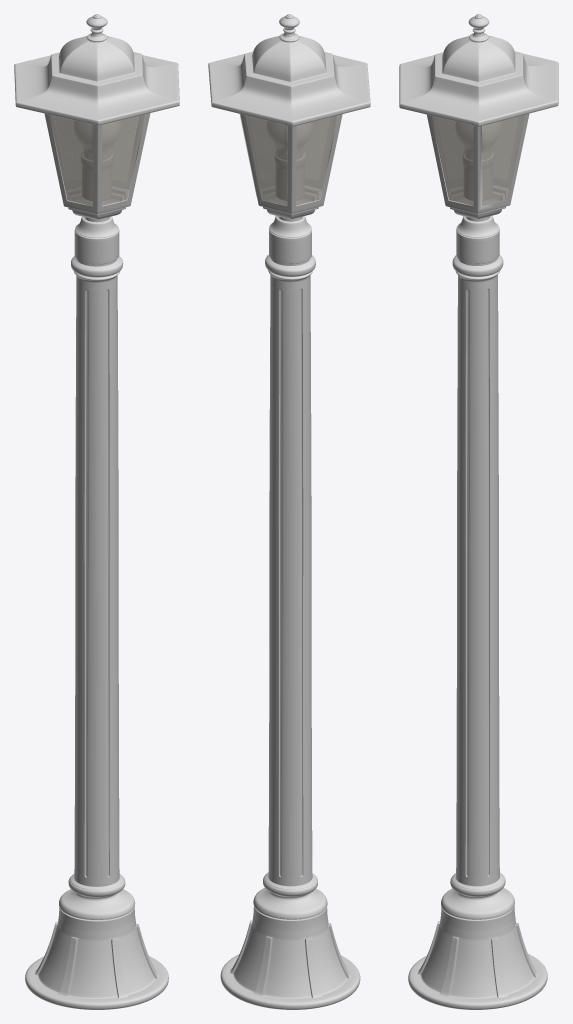
The model's file is lamp_post.glb.
The picture shows the model from 3 angles, left to right: view 1: azimuth 30°, elevation 25°; view 2: azimuth 150°, elevation 25°; view 3: azimuth 270°, elevation 25°; orthographic projection.
Visible parts, largest first — view 1: body, glass, light; view 2: body, glass, light; view 3: body, glass, light.
Part boxes in pixels (x1,y1,x2,y2): body: [14, 14, 179, 1009]; glass: [49, 114, 145, 205]; light: [74, 121, 120, 200]; body: [208, 14, 370, 1009]; glass: [239, 114, 337, 205]; light: [267, 121, 311, 200]; body: [399, 14, 558, 1009]; glass: [431, 113, 529, 205]; light: [456, 122, 500, 200].
Size of the model in its own units: 0.4914 by 2.8 by 0.4179.
Materials: 3 (1 with a texture image).
